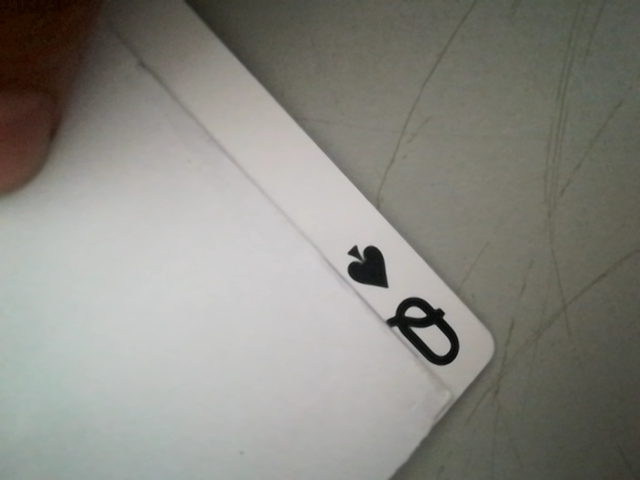ht q: (327, 232, 479, 383)
